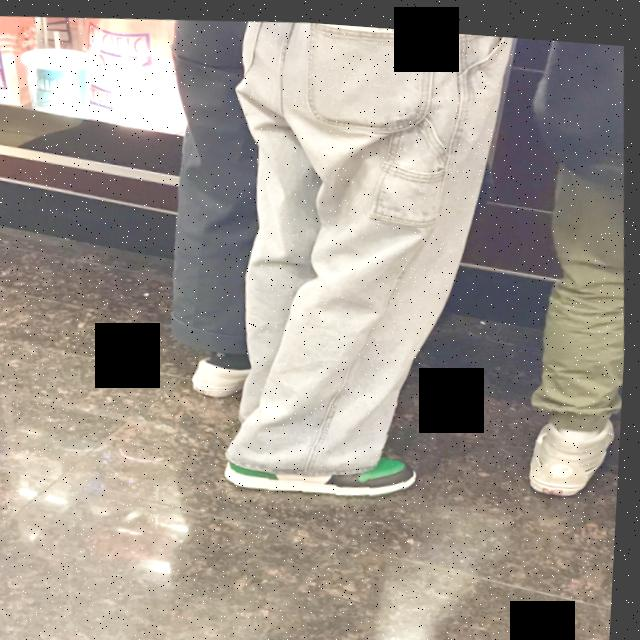shoe: (220, 411, 447, 524), (518, 392, 625, 509)
